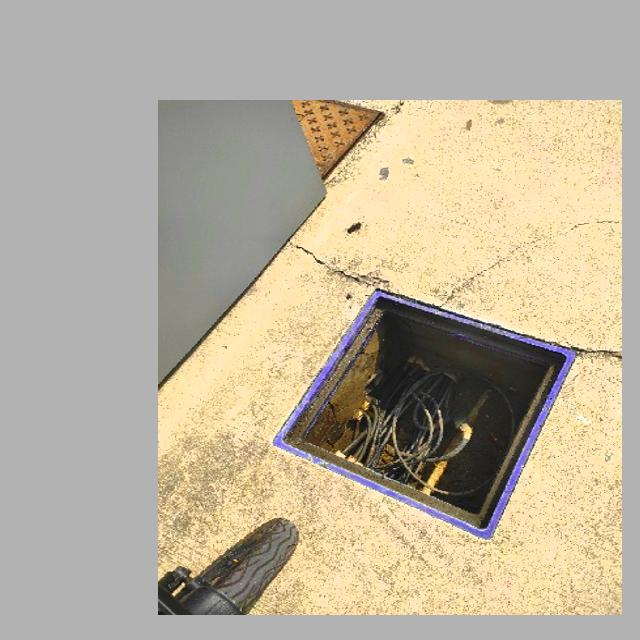lose: (274, 289, 579, 542)
